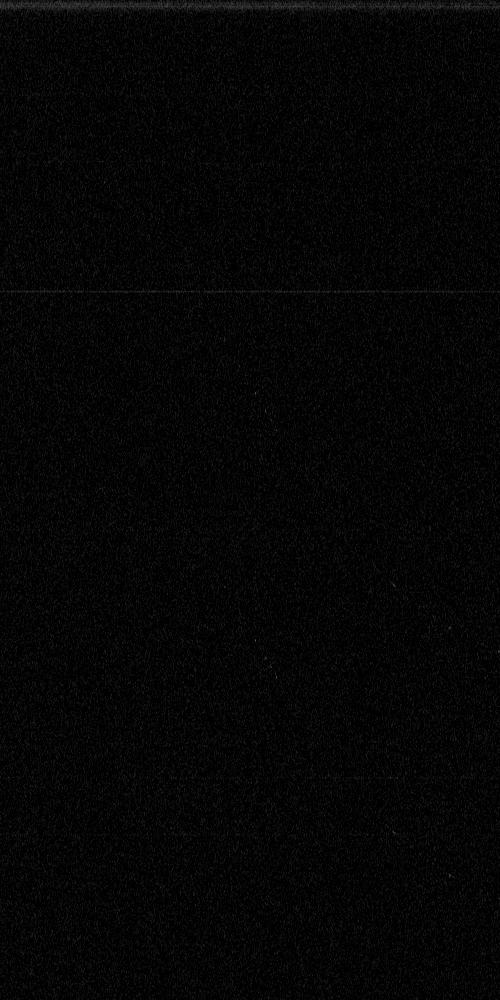signal: (0, 0, 499, 999)
